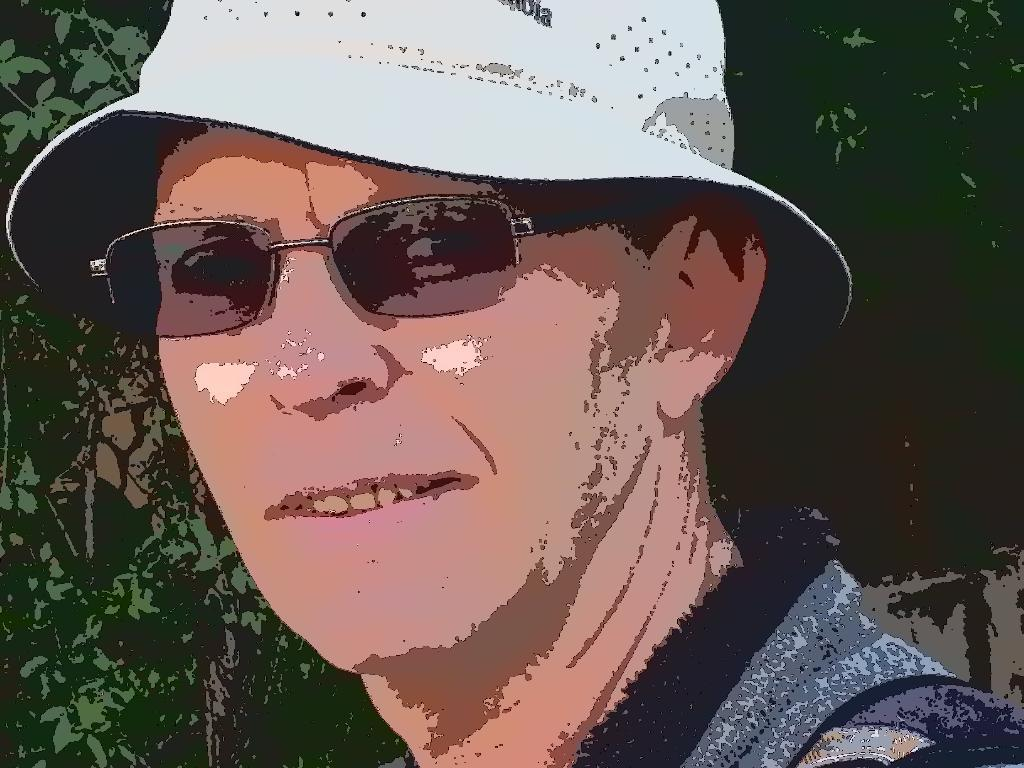Hat: (6, 0, 852, 330)
